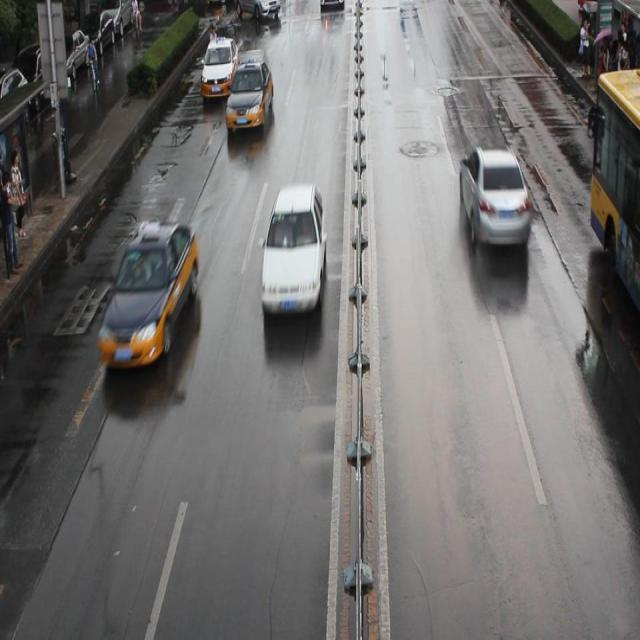car: (97, 222, 200, 368), (260, 184, 327, 314), (458, 144, 530, 248), (225, 57, 273, 130), (200, 37, 239, 98), (232, 1, 280, 22), (318, 1, 344, 11)
van: (587, 68, 640, 316)
